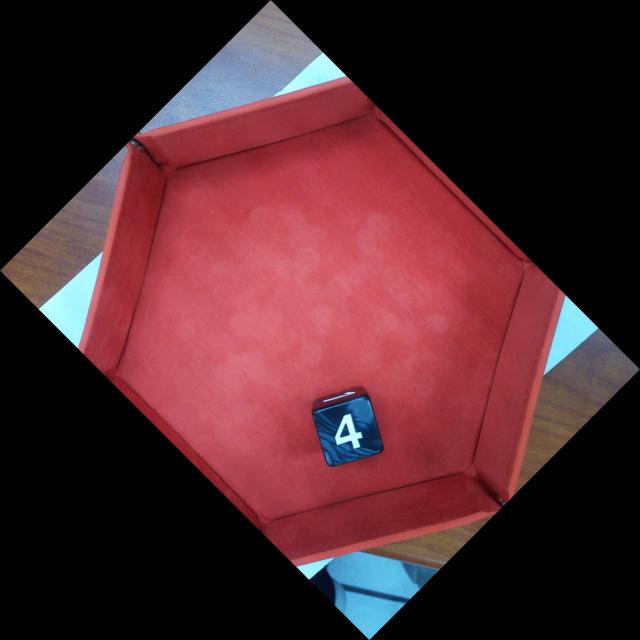dice: (309, 392, 386, 469)
